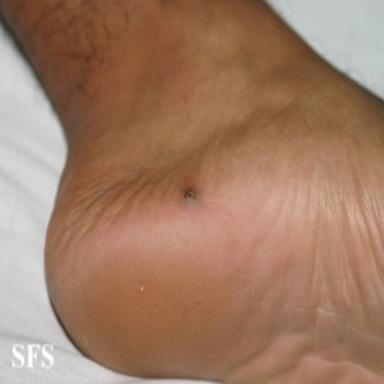Tungiasis: (183, 186, 197, 205)
